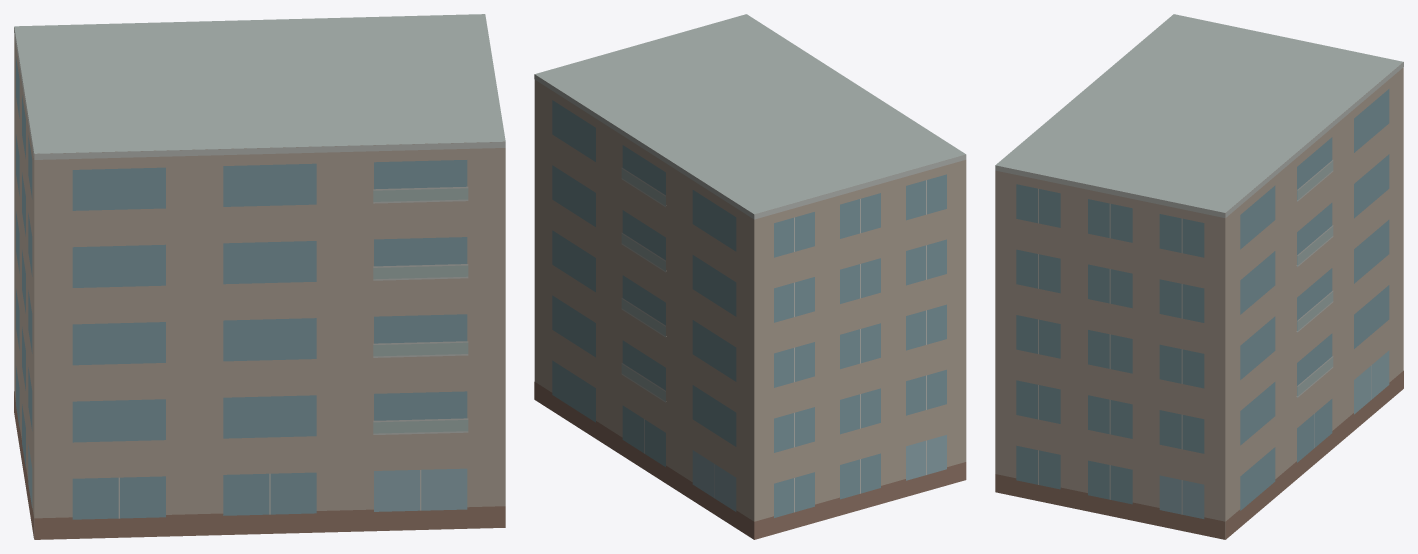
The model's file is survey-upis-32882494.glb.
3 renders of one model, left to right at view 1: azimuth 30°, elevation 25°; view 2: azimuth 150°, elevation 25°; view 3: azimuth 270°, elevation 25°, orthographic. The views are drawn at different scales.
Visible parts, largest first — view 1: survey-upis-32882494.tmp; view 2: survey-upis-32882494.tmp; view 3: survey-upis-32882494.tmp.
Part boxes in pixels (left/top/right/bottom): survey-upis-32882494.tmp: left=14, top=14, right=505, bottom=539; survey-upis-32882494.tmp: left=534, top=14, right=966, bottom=539; survey-upis-32882494.tmp: left=995, top=14, right=1403, bottom=539.
Size of the model in its own units: 19.92 by 15.25 by 17.28.
